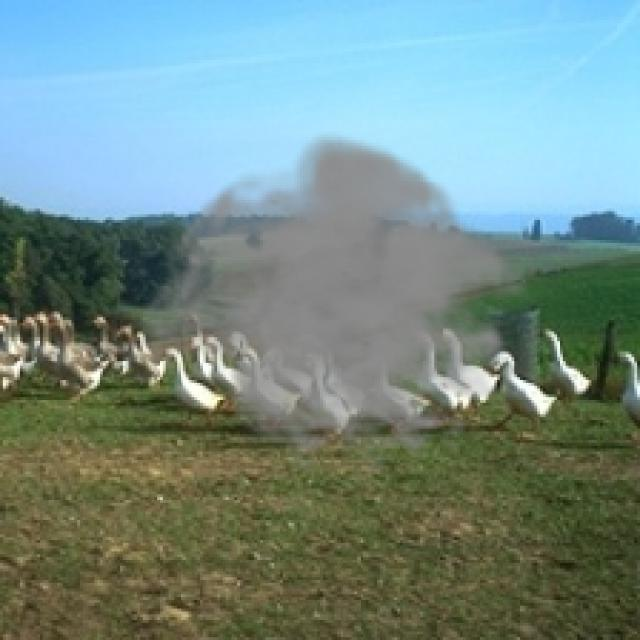smoke: (131, 132, 546, 474)
